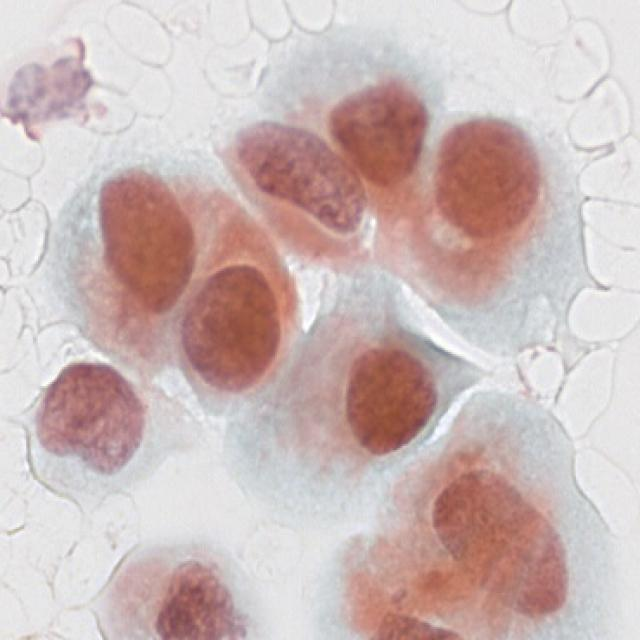cytoplasm: (193, 247, 499, 568), (0, 323, 207, 521)
nucleus: (21, 348, 165, 491), (325, 331, 457, 462)
